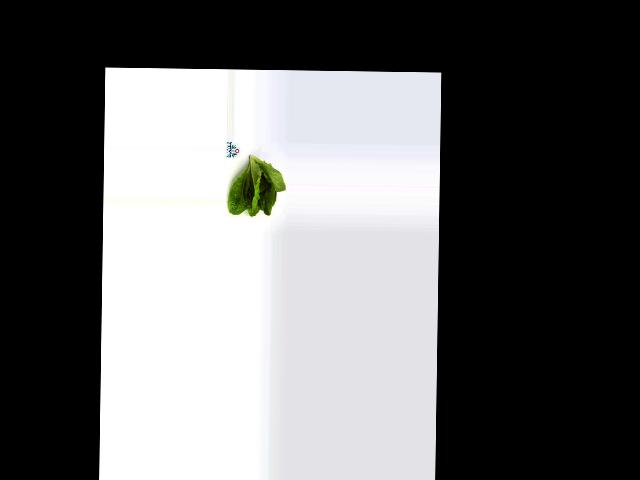lettuce: (228, 154, 287, 219)
